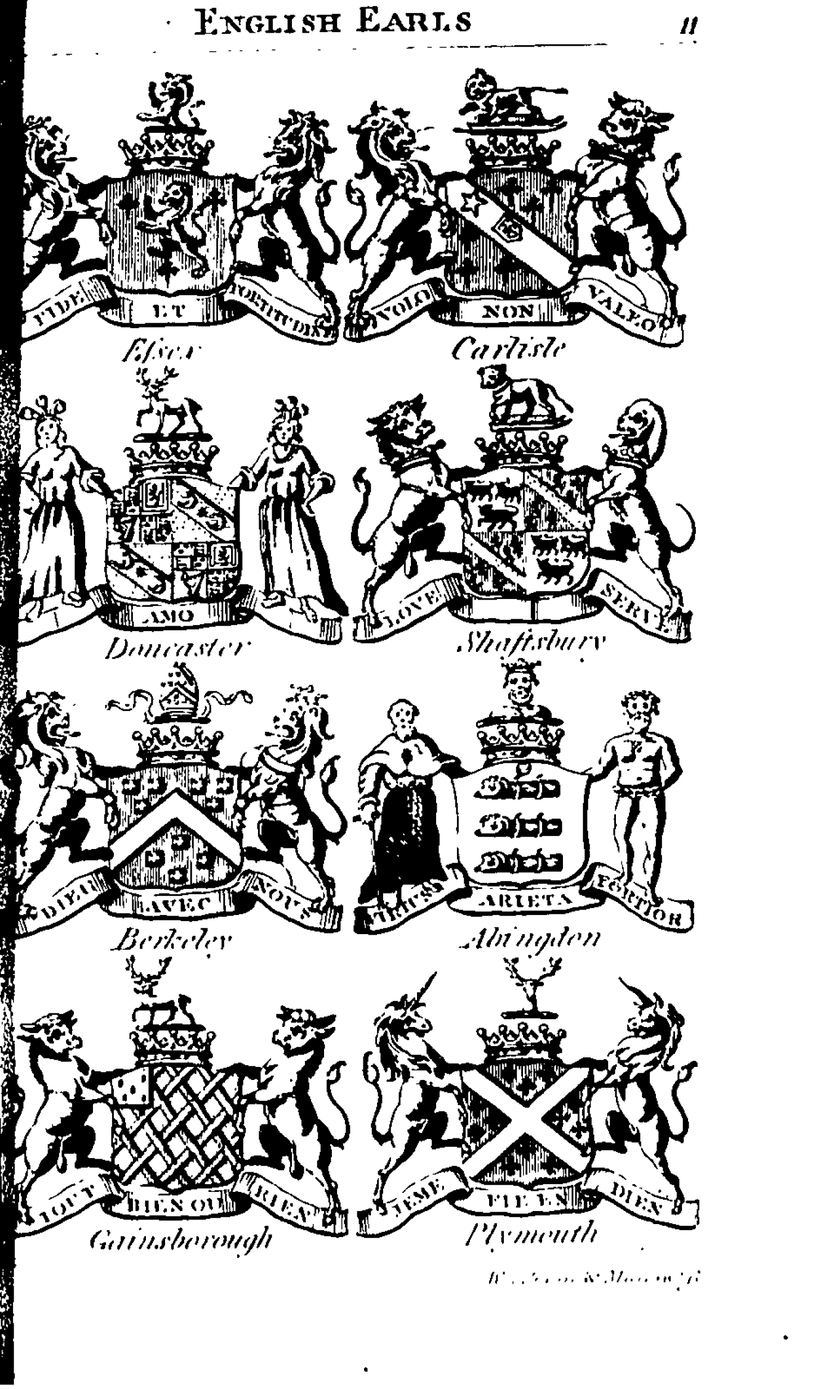coat_of_arms: (347, 957, 707, 1261), (339, 63, 692, 367), (348, 373, 708, 669), (351, 663, 704, 956), (20, 61, 342, 376), (15, 962, 353, 1259), (21, 370, 357, 663), (17, 666, 354, 957)
